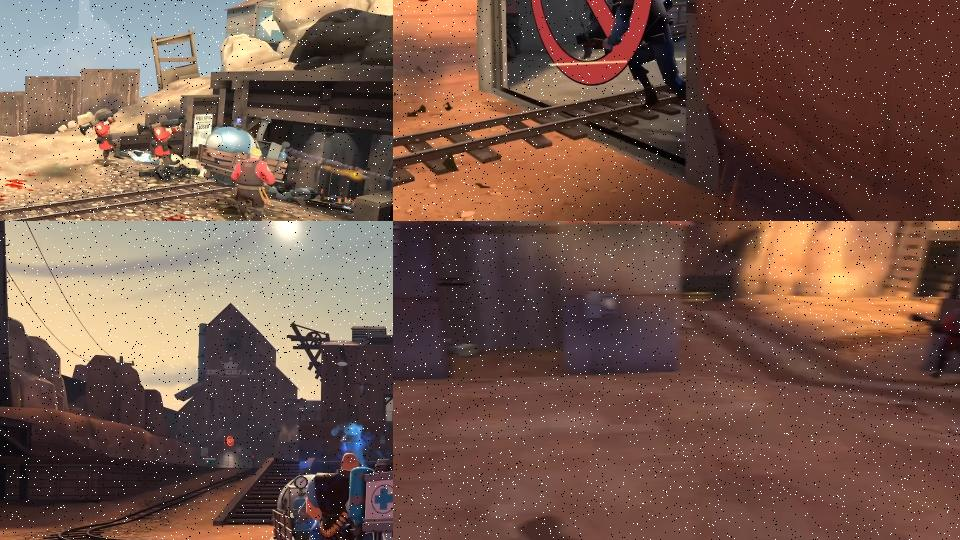Enemy: (589, 0, 686, 114), (301, 450, 381, 540), (908, 299, 960, 386), (228, 147, 277, 221), (136, 113, 188, 181), (78, 107, 125, 169)
